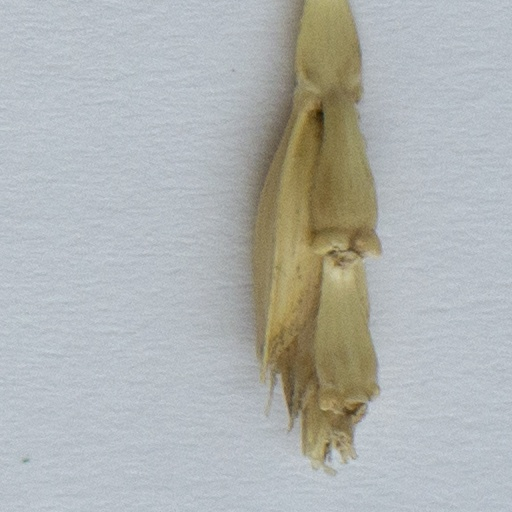Peel-poly: (255, 0, 377, 469)
